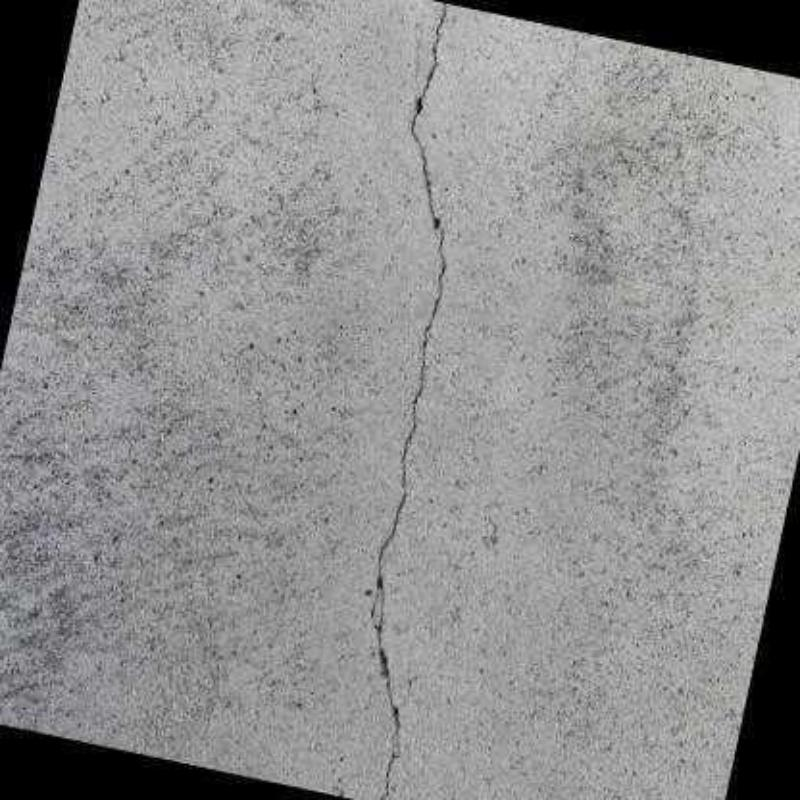pothole: (377, 2, 448, 800), (363, 587, 379, 629)
